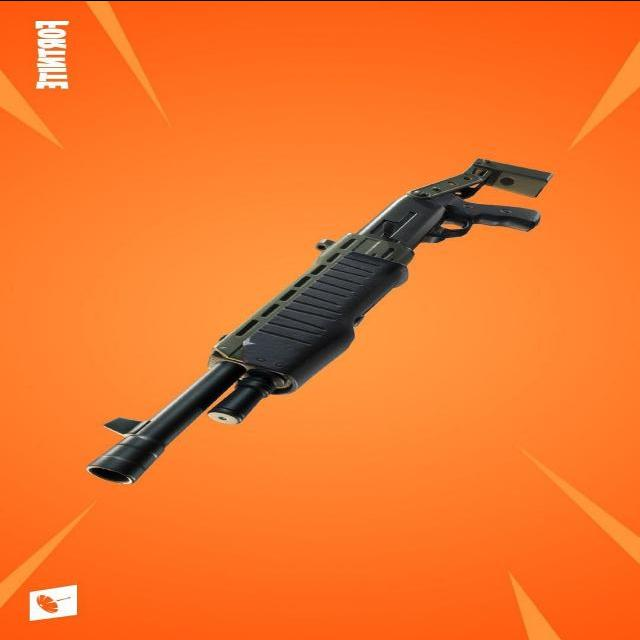shotgun: (86, 153, 553, 489)
